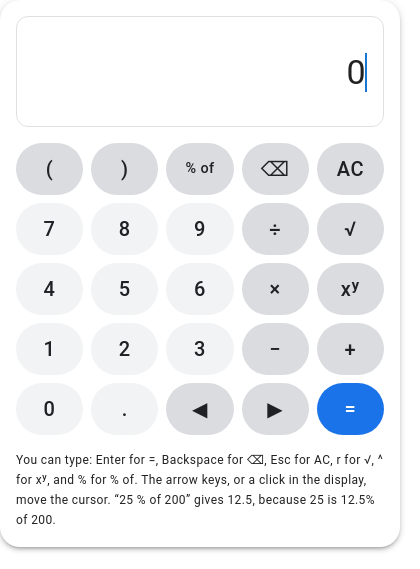
Test: building an expression › AC-005 pressing 2 + % shows 2 % of
Step 1. Click the button "2" → [125, 349], box [91,323,158,375]
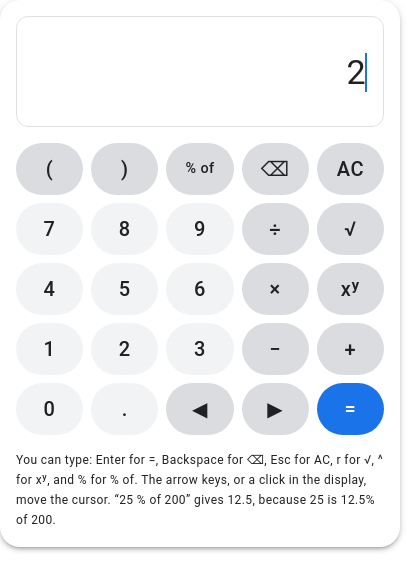
Step 2. Click the button named "add" → [350, 349], box [317,323,384,375]
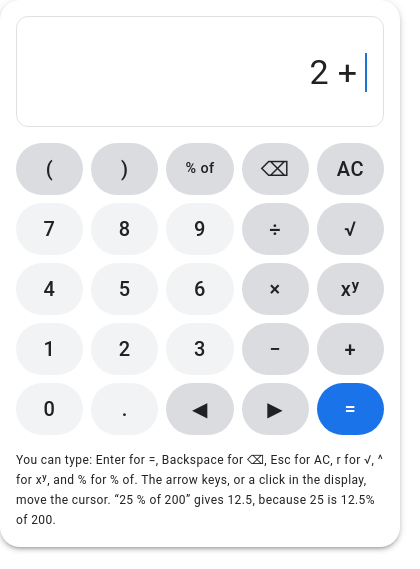
Step 3. Click the button with aria-label "as a percentage of" → [200, 169], box [166,143,234,195]
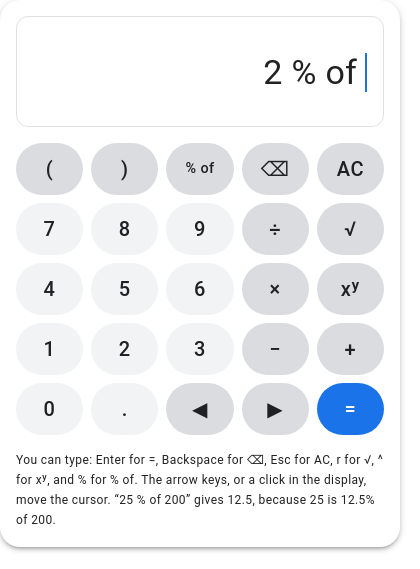
Expected: the message reads "2 % of", [263,52,367,92]
